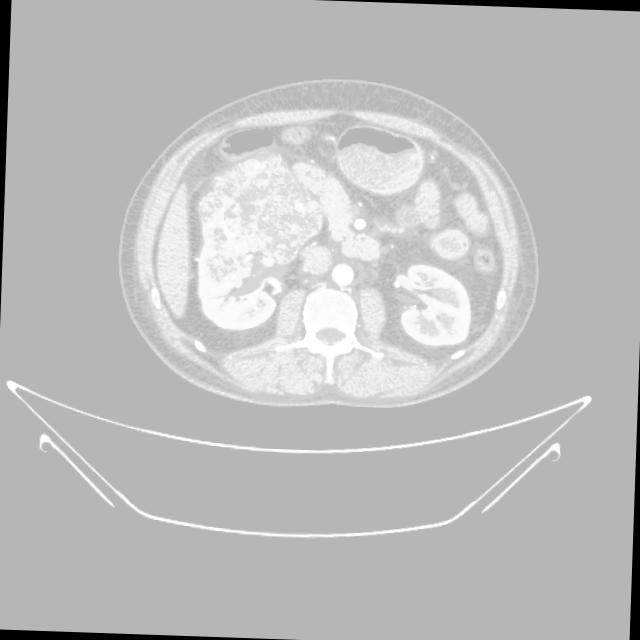TUMOR: (144, 176, 511, 339)
